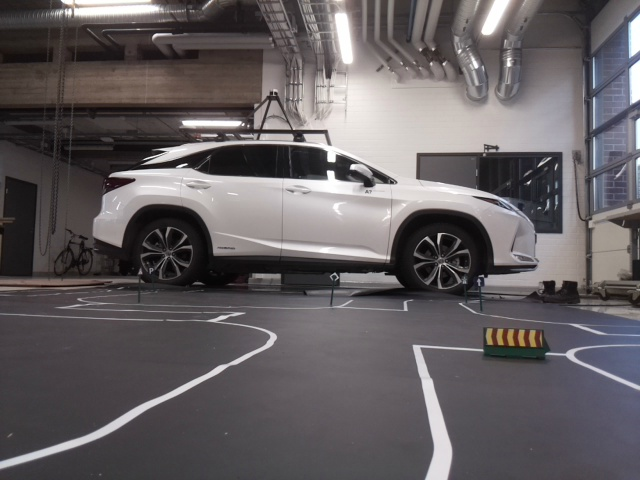ClosedRoadStand: (482, 326, 545, 351)
